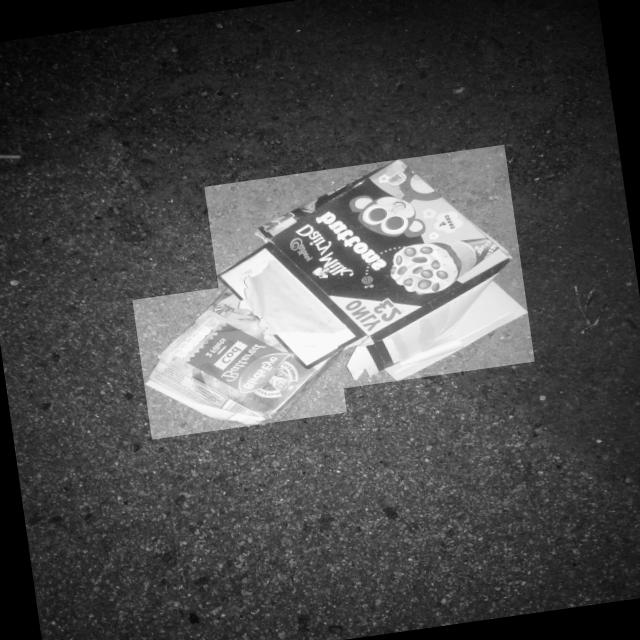Other Carton: (217, 161, 528, 381), (144, 287, 338, 426)
